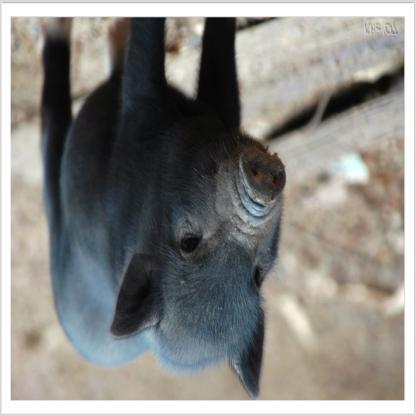boar: (39, 16, 288, 402)
